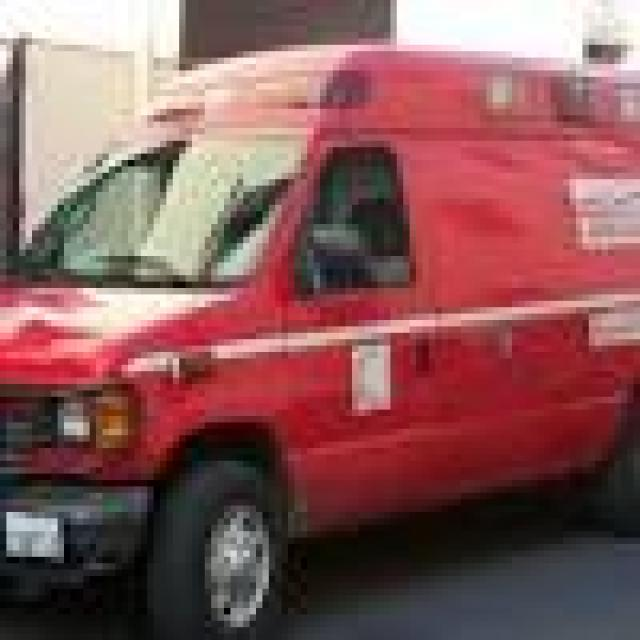ambulance: (4, 44, 640, 632)
